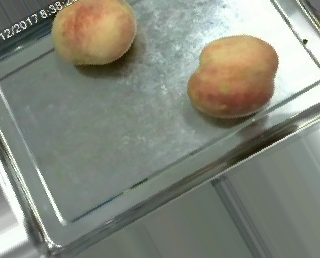Peach: (188, 34, 277, 119), (52, 0, 136, 66)
